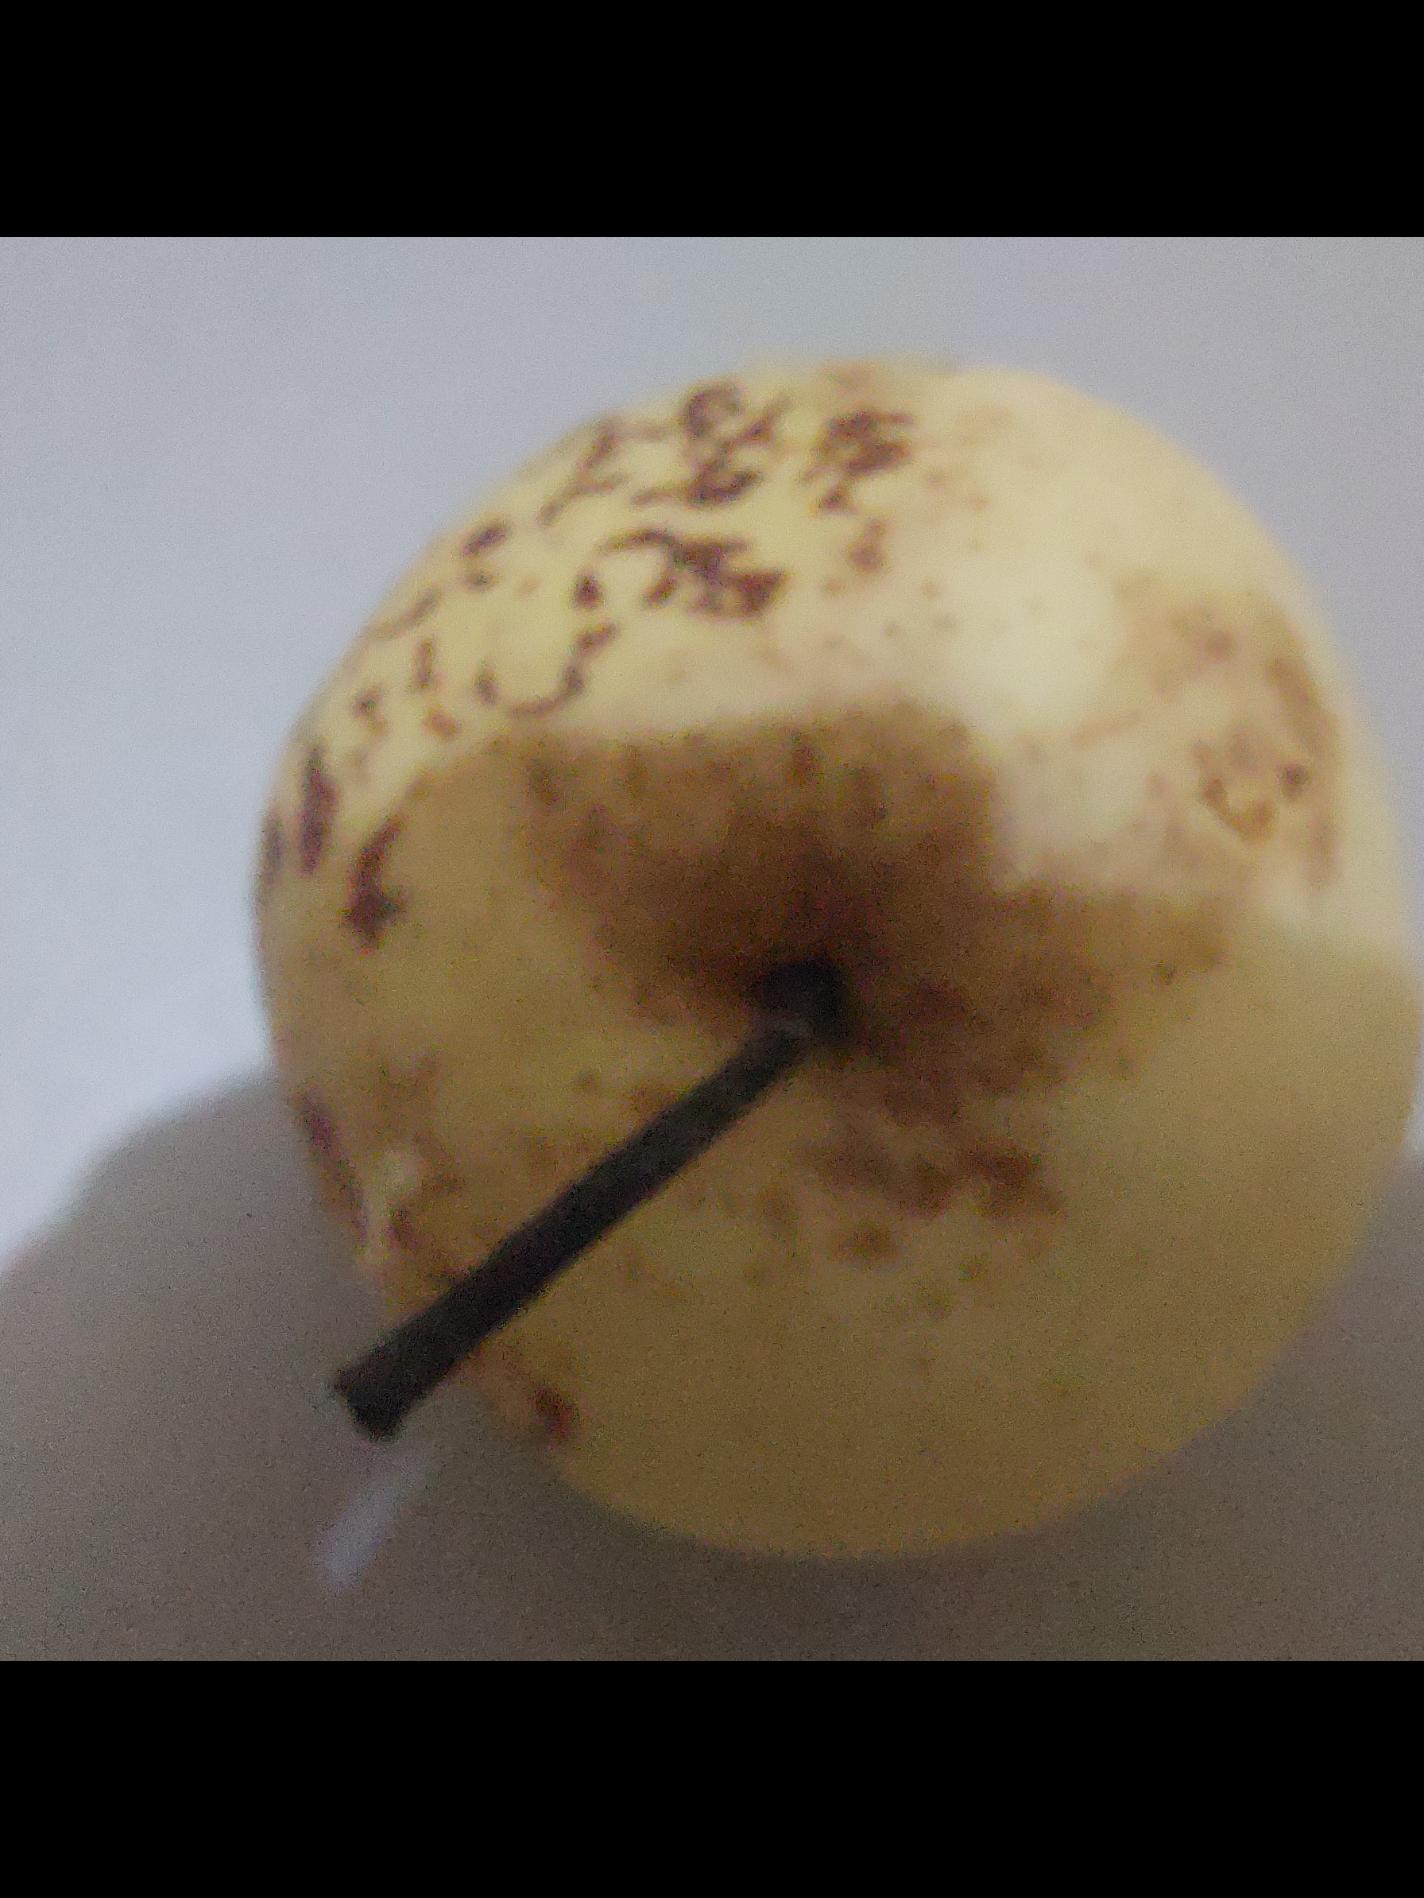Bad Pear: (259, 365, 1424, 1585)
